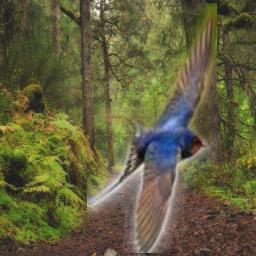Swallow: (87, 3, 217, 253)
